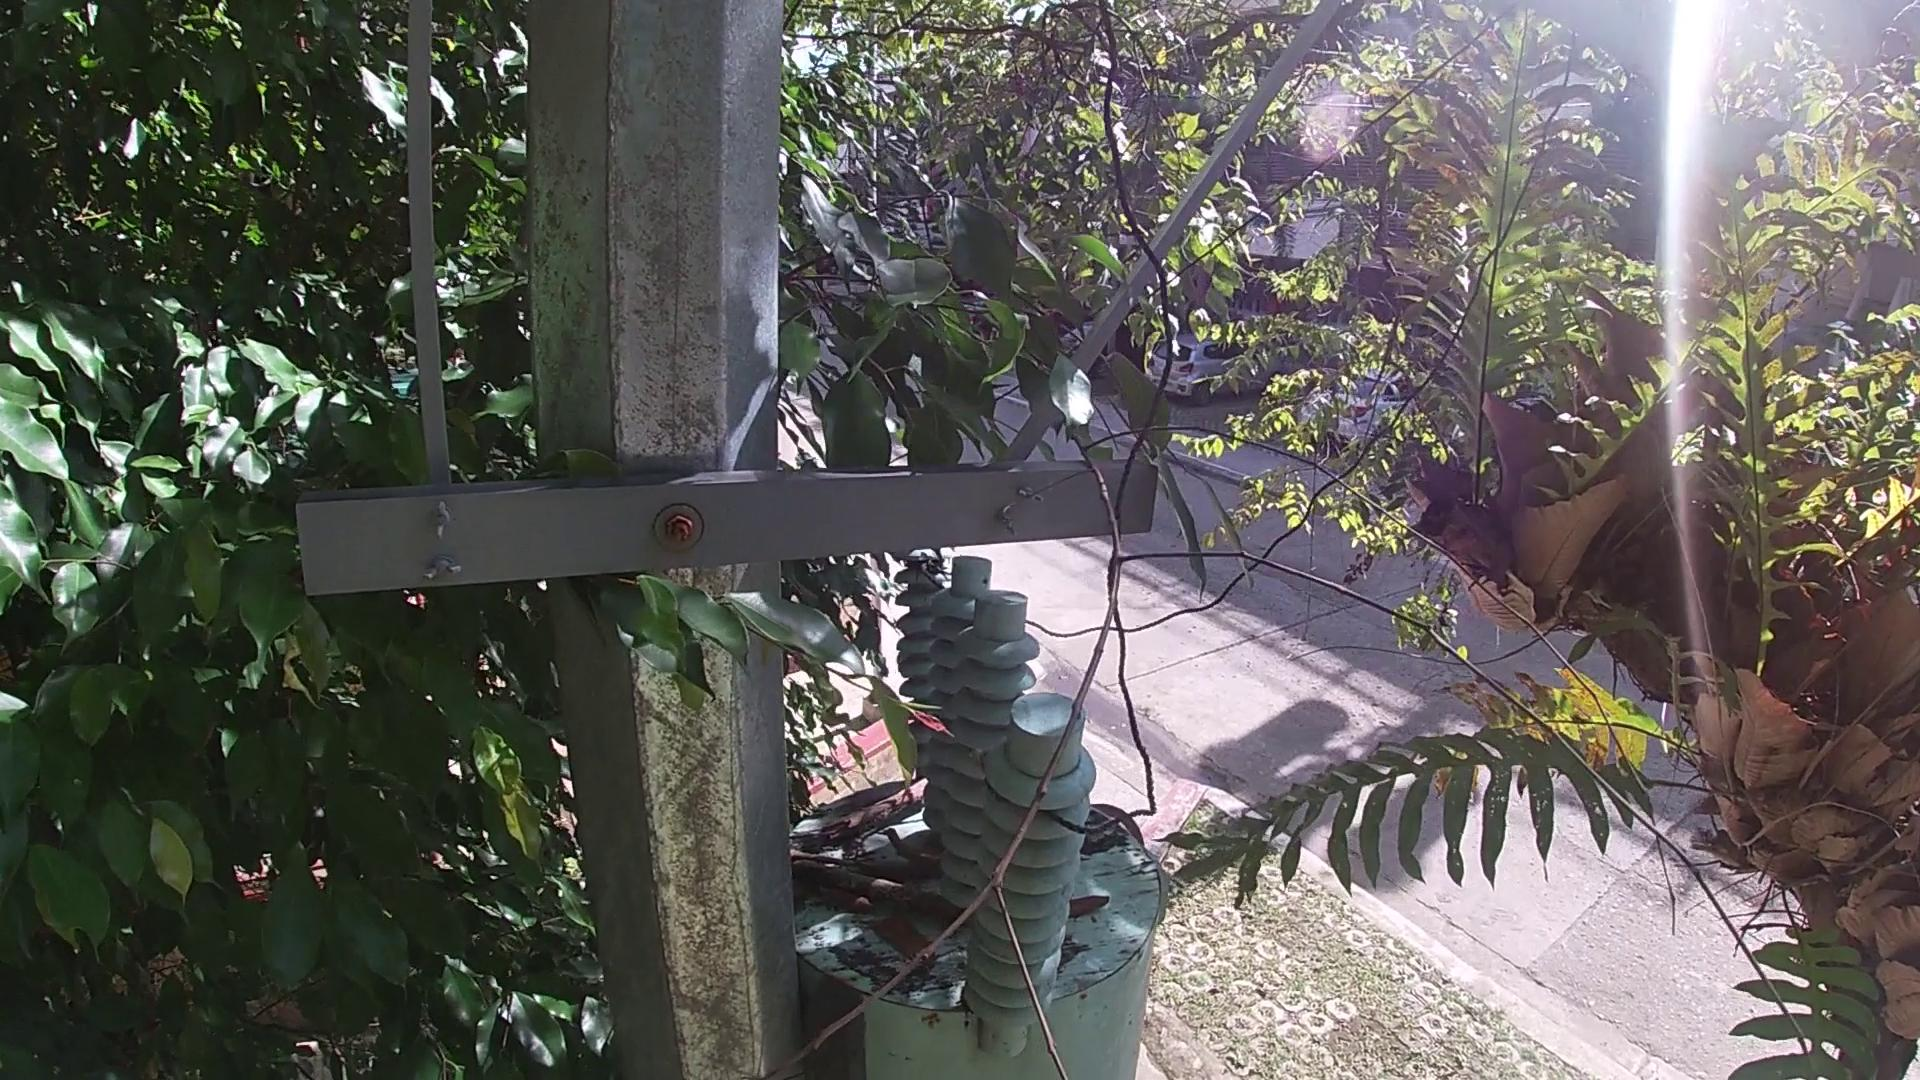leaf: (849, 913, 935, 963), (807, 885, 876, 911), (1068, 893, 1112, 923)
tree branch: (753, 425, 1812, 1079), (789, 857, 967, 927), (818, 773, 930, 844)
